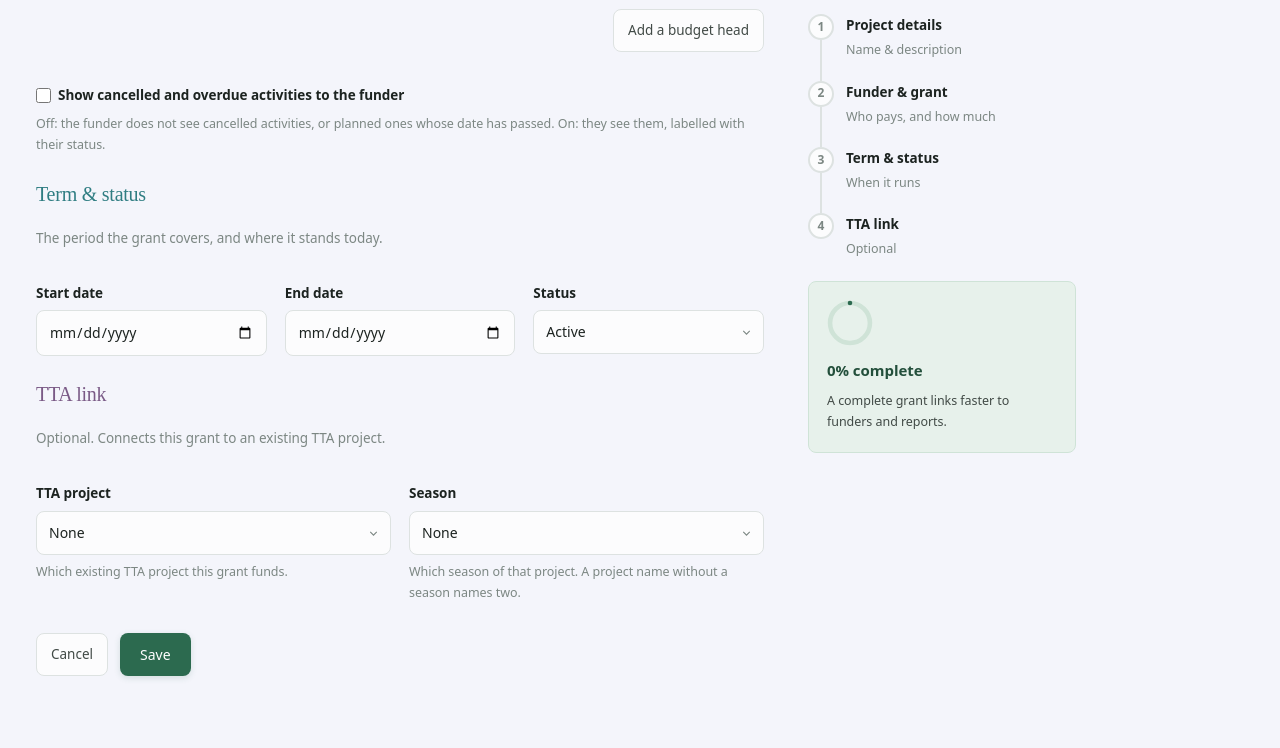
Test: D-019: the city error clears once a city is ticked
The image size is (1280, 748).
(page scrolled)
Select "Khelo Girls — Chhattisgarh" in the dropdown labelled "TTA project". click: (214, 533)
box: [36,511,391,555]
(page scrolled)
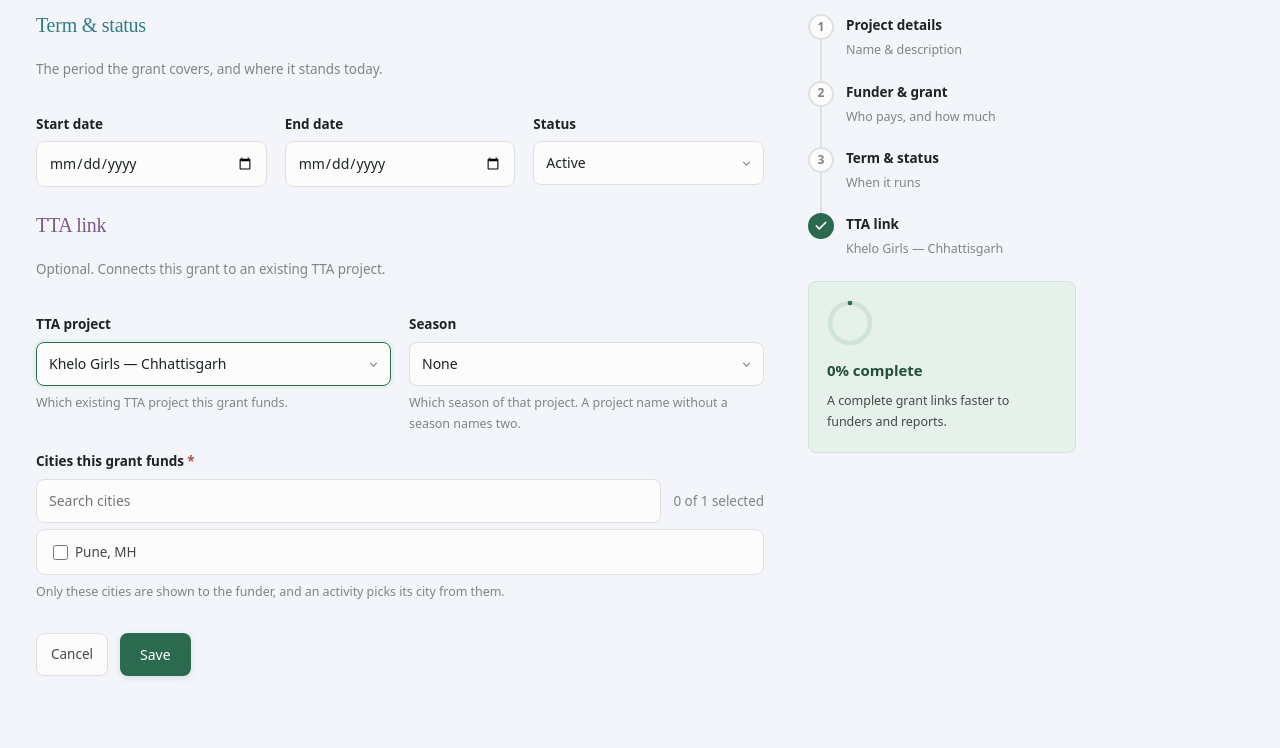
Click the button "Save". click: (155, 654)
box: [120,633,191,676]
(page scrolled)
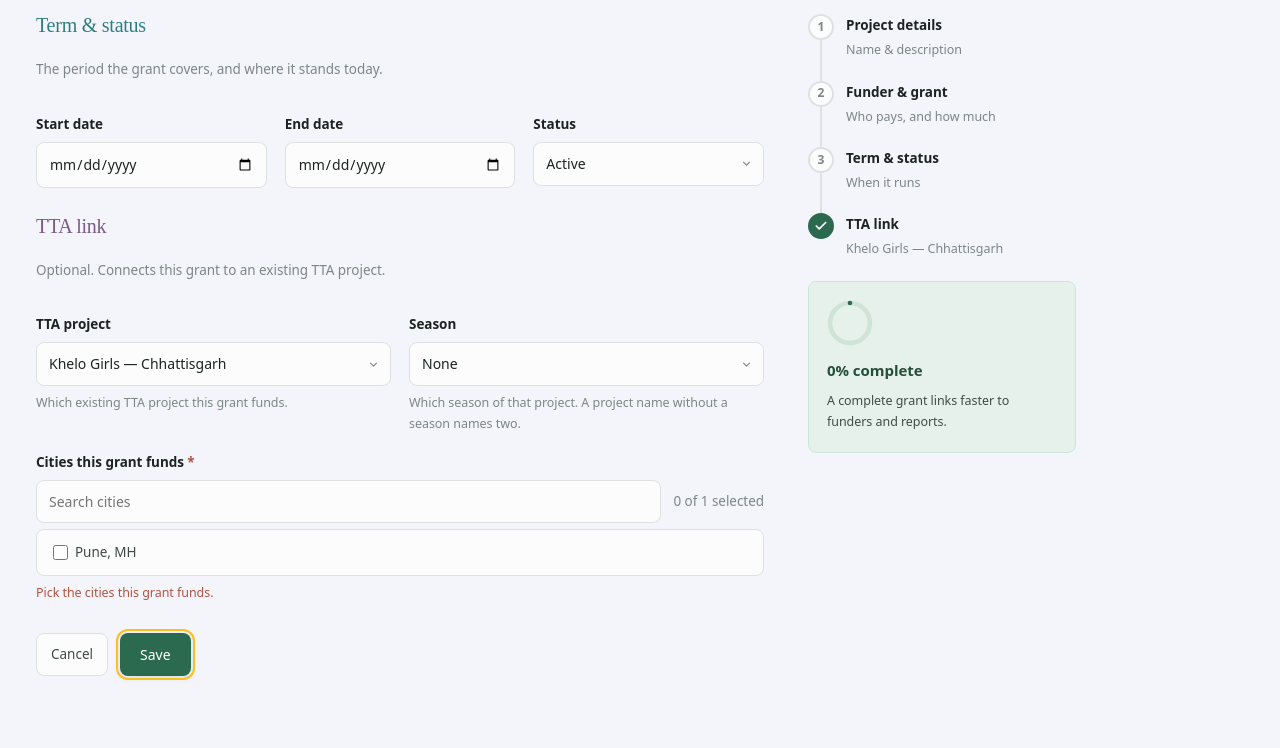
Now the text "Pick the cities this grant funds." is shown, box [36,584,214,601]
Click the checkbox labelled "Pune, MH". click: (60, 553)
box: [53,545,68,560]
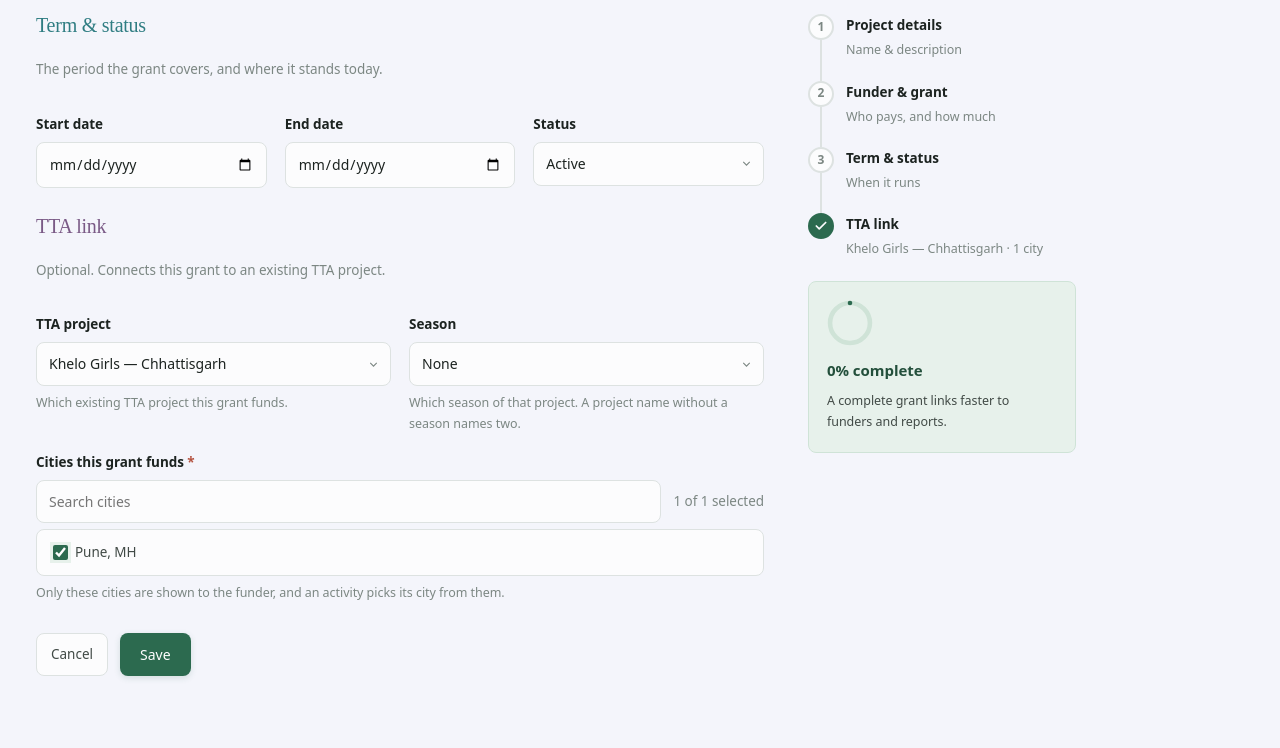
Now the text "Pick the cities this grant funds." is gone
